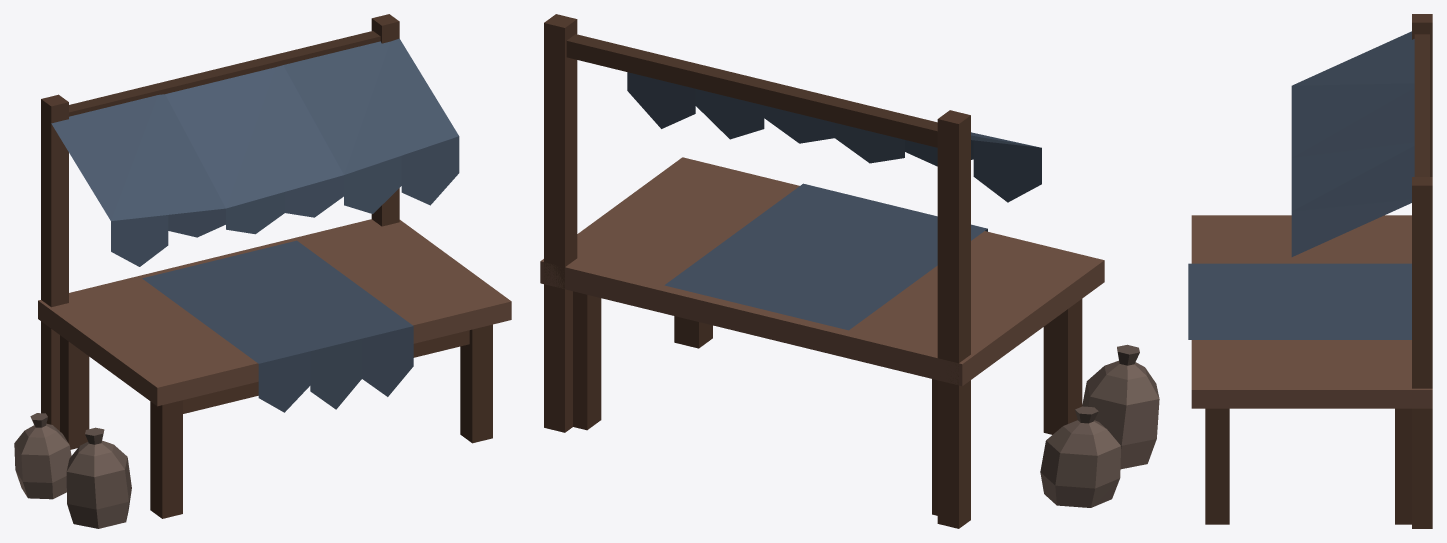
File: stallBlue.glb
The picture shows the model from 3 angles, left to right: view 1: azimuth 30°, elevation 25°; view 2: azimuth 150°, elevation 25°; view 3: azimuth 270°, elevation 25°; orthographic projection. The views are drawn at different scales.
Visible parts, largest first — view 1: lit; view 2: lit; view 3: lit.
Part boxes in pixels (left/top/right/bottom): lit: left=14, top=14, right=511, bottom=528; lit: left=540, top=14, right=1159, bottom=528; lit: left=1188, top=14, right=1432, bottom=528.
Bounding box in the file's own units: 2.91 × 2.2 × 1.42.
